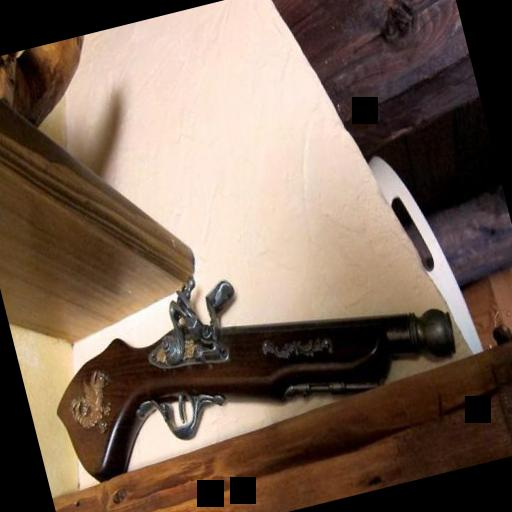Handgun: (29, 210, 470, 496)
